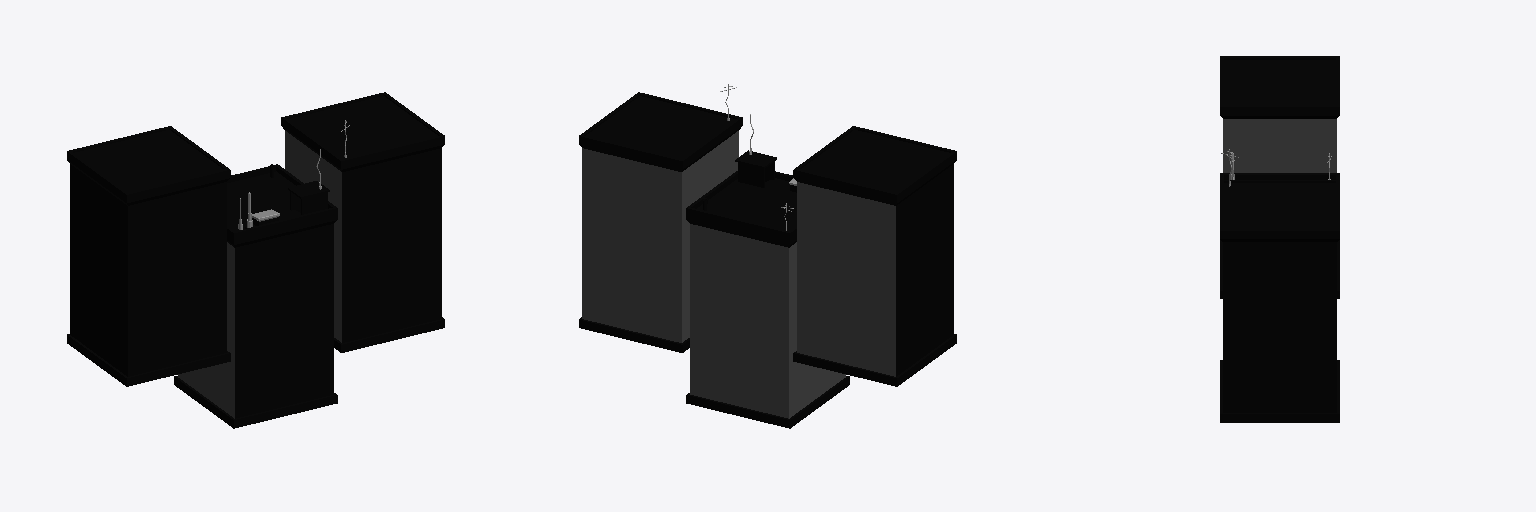
Rendered from Main Rooftop.obj.
3 views of the same model, side by side, from view 1: azimuth 30°, elevation 25°; view 2: azimuth 150°, elevation 25°; view 3: azimuth 270°, elevation 25° (orthographic).
Visible parts, largest first — view 1: Main Rooftop; view 2: Main Rooftop; view 3: Main Rooftop.
Boxes of the visible parts, x1,y1,x2,y2 form: Main Rooftop: [67, 92, 444, 428]; Main Rooftop: [579, 84, 956, 428]; Main Rooftop: [1220, 56, 1339, 422].
Bounding box in the file's own units: 49.05 × 40.65 × 16.